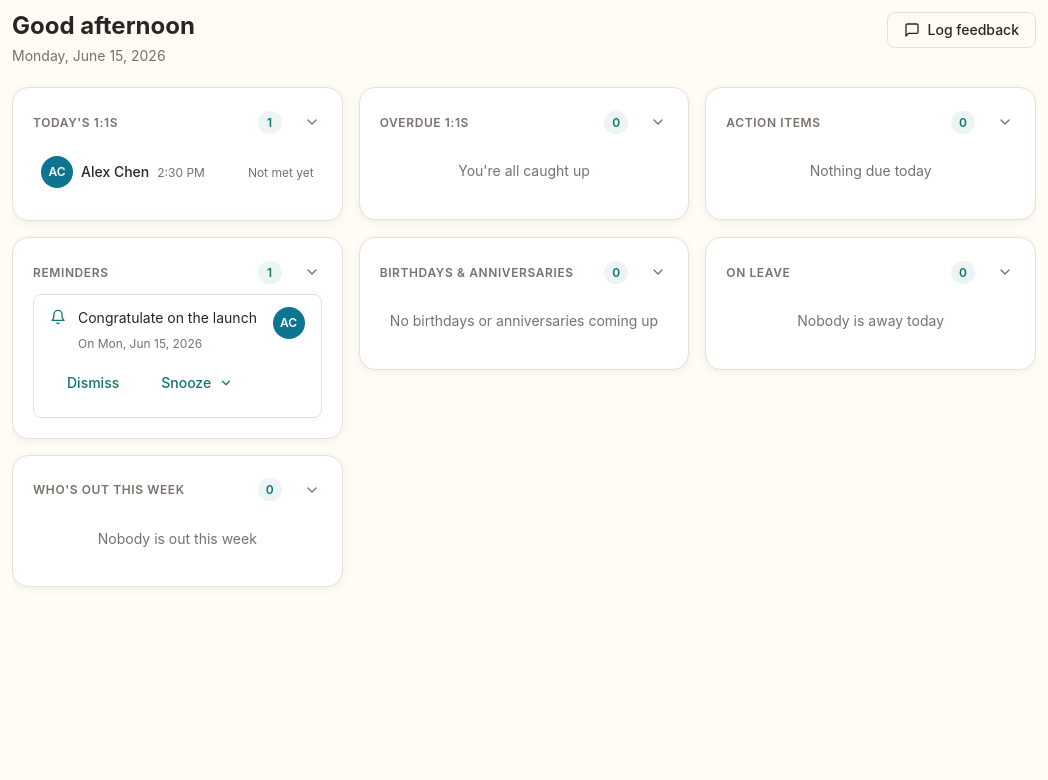
Dashboard › sections › shows reminders that are due and lets them be dismissed
Check: the message shows "Congratulate on the launch", box [78, 309, 257, 326]
Click the button with aria-label "Dismiss reminder".
click(93, 383)  # box [50, 361, 136, 405]
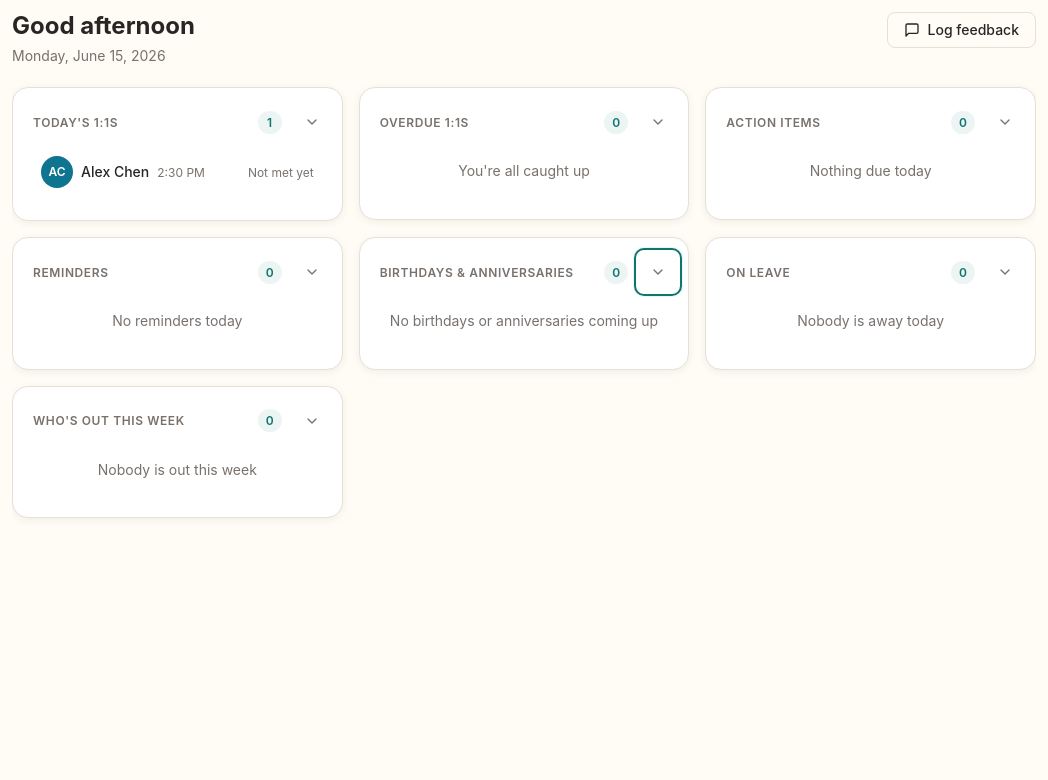
Check: the text "Congratulate on the launch" is gone
